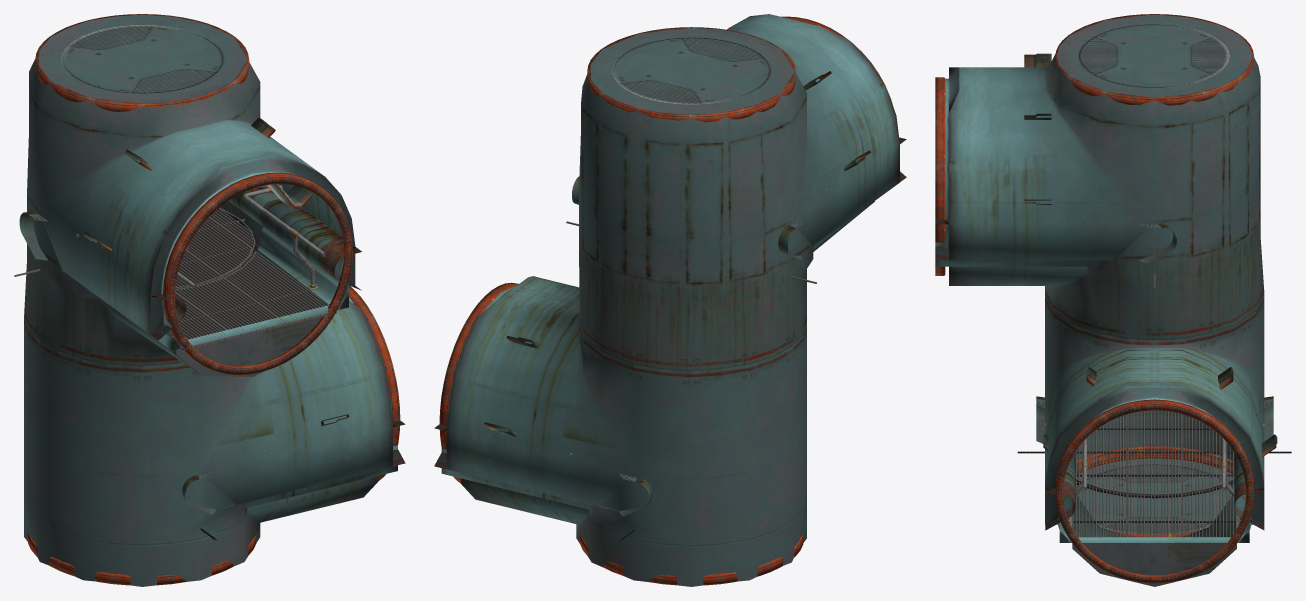
File: tau_tunnel_ladder_short_turn_left.dae
The picture shows the model from 3 angles, left to right: view 1: azimuth 30°, elevation 25°; view 2: azimuth 150°, elevation 25°; view 3: azimuth 270°, elevation 25°; orthographic projection. The views are drawn at different scales.
Visible parts, largest first — view 1: polySurface637, polySurface654, polySurface649, polySurface651, polySurface650, polySurface652, polySurface653; view 2: polySurface637, polySurface654, polySurface651, polySurface652; view 3: polySurface637, polySurface654, polySurface655, polySurface128, polySurface651, polySurface652, polySurface653.
Part boxes in pixels (x1,y1,x2,y2): polySurface637: (24,14,397,586); polySurface654: (27,14,400,585); polySurface649: (171,251,336,350); polySurface651: (19,185,405,514); polySurface650: (14,208,253,287); polySurface652: (83,117,349,426); polySurface653: (76,185,326,453); polySurface637: (441,14,899,586); polySurface654: (439,16,892,585); polySurface651: (434,137,906,516); polySurface652: (484,71,870,436); polySurface637: (935,14,1264,586); polySurface654: (935,14,1253,583); polySurface655: (1017,410,1291,493); polySurface128: (1072,480,1236,537); polySurface651: (935,219,1273,530); polySurface652: (1024,53,1277,456); polySurface653: (1045,216,1264,521).
Size of the model in its own units: 6.5 by 8.93 by 6.5.
